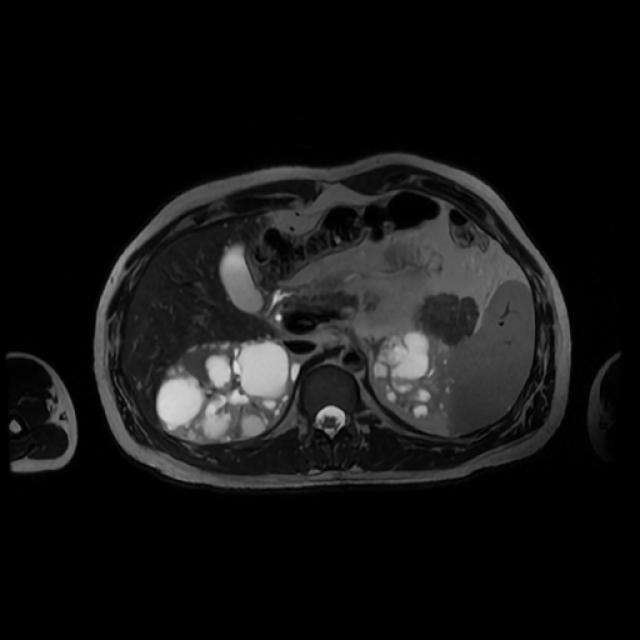sag: (155, 340, 300, 442)
sol: (372, 330, 455, 420)
